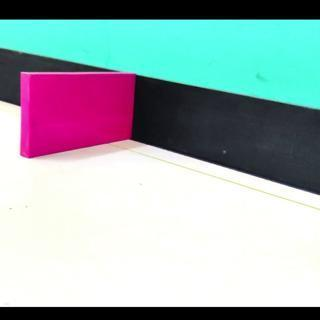xparking: (28, 76, 130, 161)
